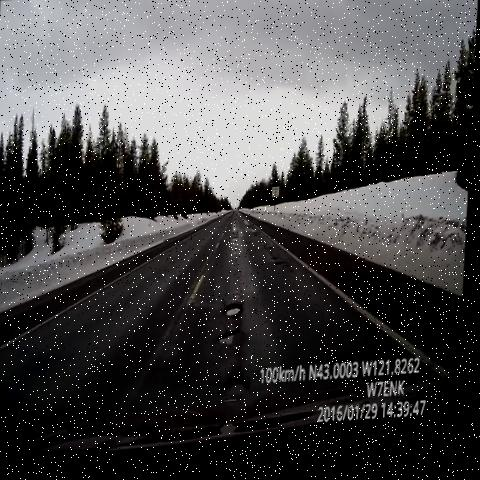pothole: (219, 361, 262, 414), (214, 322, 265, 362), (266, 249, 310, 288), (218, 299, 250, 327), (229, 227, 253, 251), (247, 223, 268, 246), (259, 236, 275, 259), (230, 212, 245, 231)
